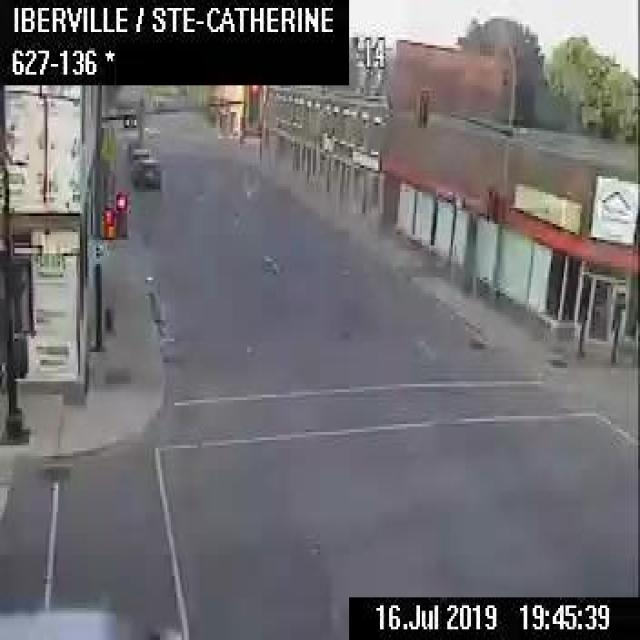vehicle: (129, 157, 160, 189), (120, 112, 138, 131), (126, 144, 148, 159)
